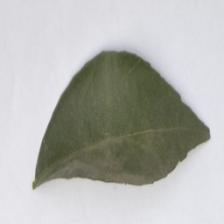healthy: (33, 52, 210, 188)
